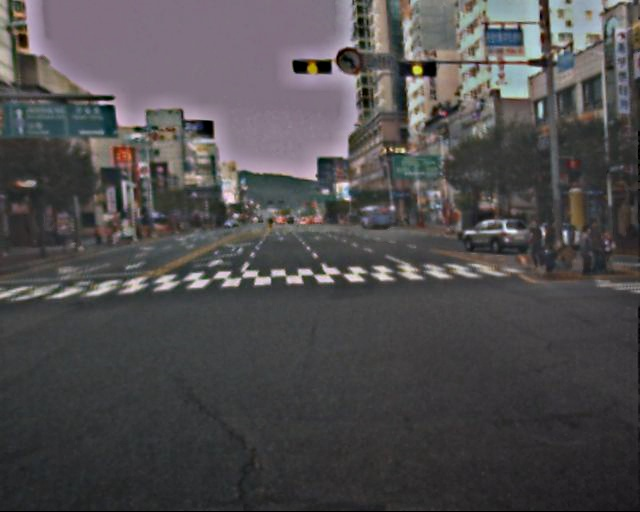person: (540, 214, 565, 281), (588, 217, 609, 278), (529, 209, 549, 273), (575, 223, 595, 278)
